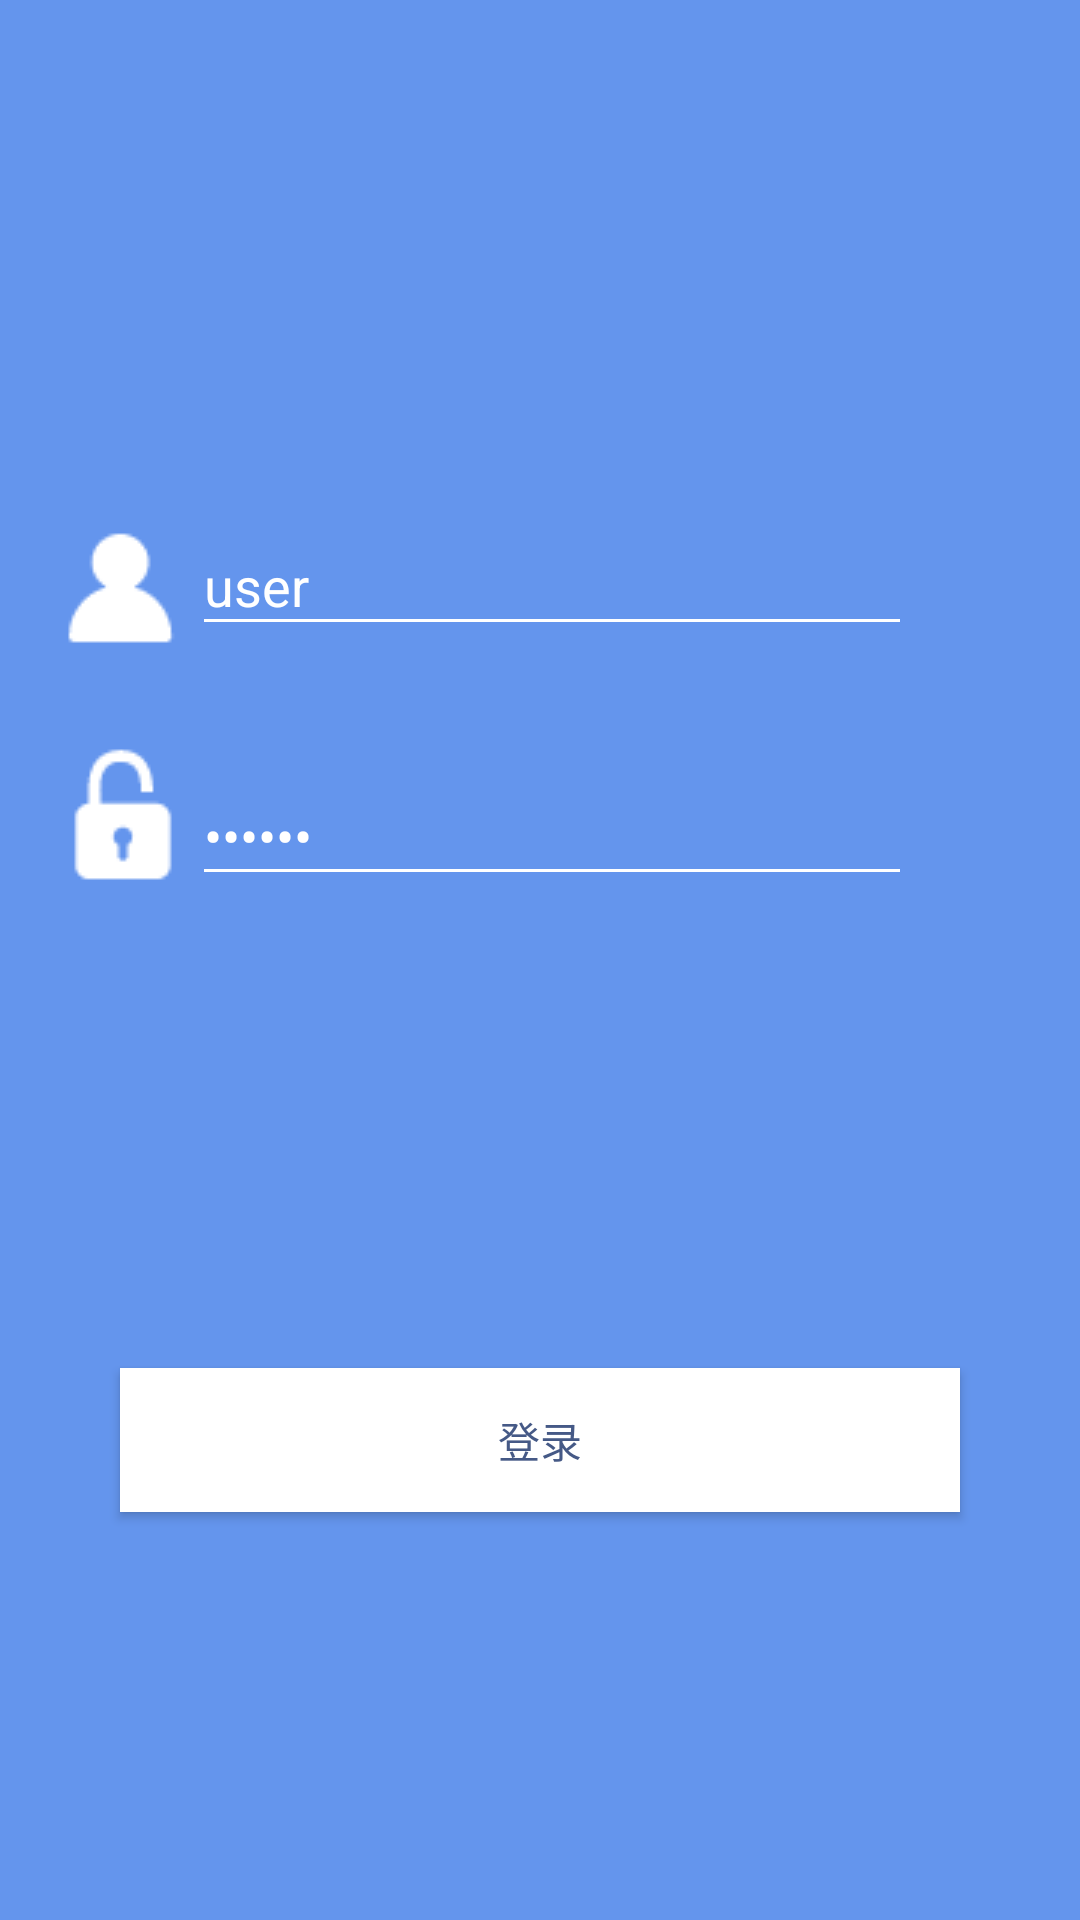

Screen size 1080w x 1920h. Icon name, then its box in pixels as (x1, y1, x2, y2):
lock: (74, 749, 172, 880)
